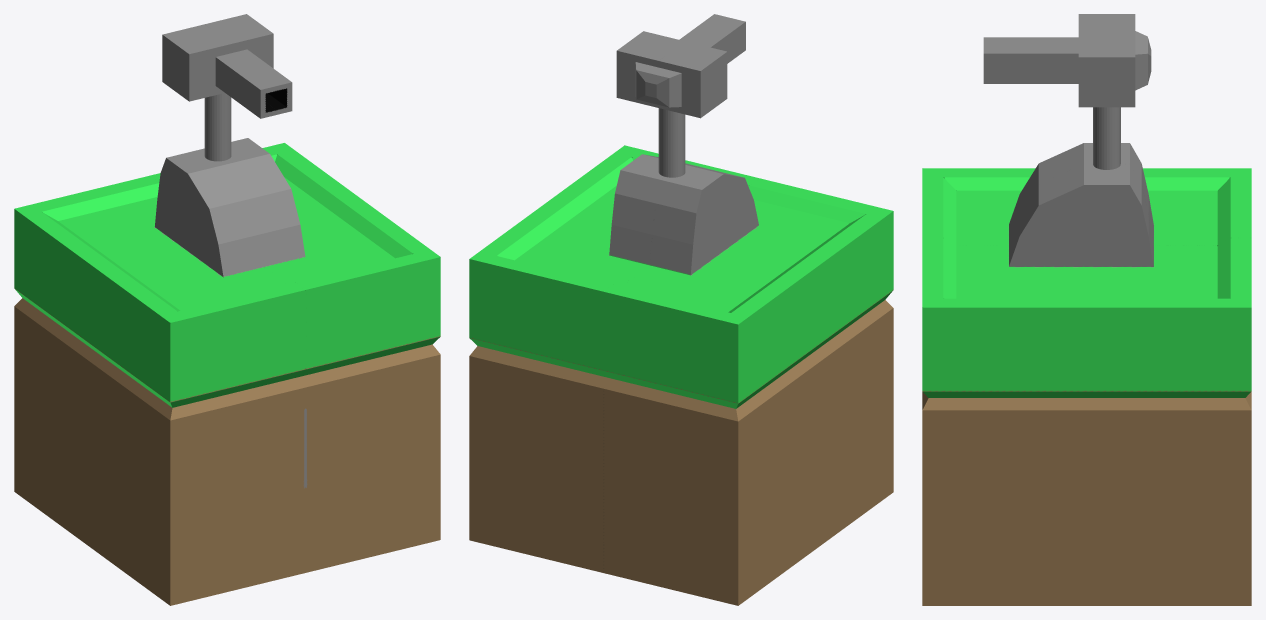
The model's file is Tile_Tower_1.fbx.
The picture shows the model from 3 angles, left to right: view 1: azimuth 30°, elevation 25°; view 2: azimuth 150°, elevation 25°; view 3: azimuth 270°, elevation 25°; orthographic projection. The views are drawn at different scales.
Visible parts, largest first — view 1: Base, Head; view 2: Base, Head; view 3: Base, Head.
Part boxes in pixels (bbox=[...]): Base: bbox=[14, 93, 440, 605]; Head: bbox=[162, 14, 292, 118]; Base: bbox=[469, 108, 893, 605]; Head: bbox=[616, 14, 745, 118]; Base: bbox=[922, 107, 1251, 605]; Head: bbox=[983, 14, 1151, 107].
Bounding box in the file's own units: 200 × 336 × 200.
